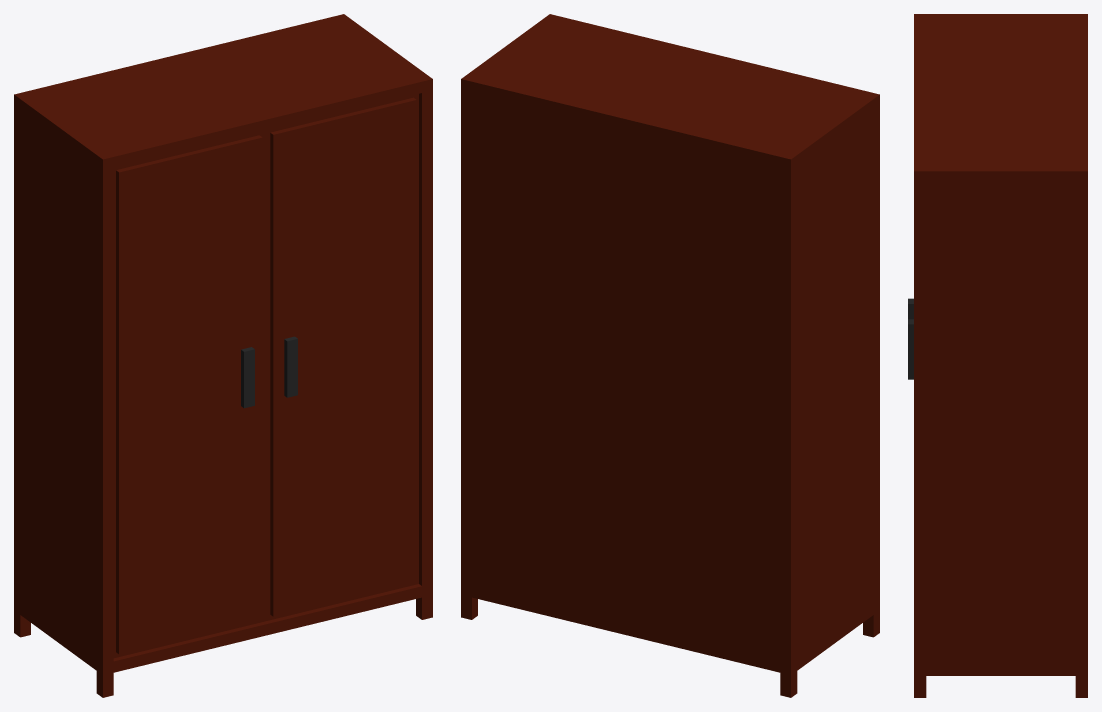
Rendered from small wardrobe.fbx.
3 views of the same model, side by side, from view 1: azimuth 30°, elevation 25°; view 2: azimuth 150°, elevation 25°; view 3: azimuth 270°, elevation 25° (orthographic). The views are drawn at different scales.
Parts seen in each view (by area): view 1: wardrobe small; view 2: wardrobe small; view 3: wardrobe small.
Boxes of the visible parts, <box> form: wardrobe small: <box>14,14,432,697</box>; wardrobe small: <box>461,14,879,697</box>; wardrobe small: <box>908,14,1087,697</box>.
Bounding box in the file's own units: 1.2 × 1.87 × 0.5792.
